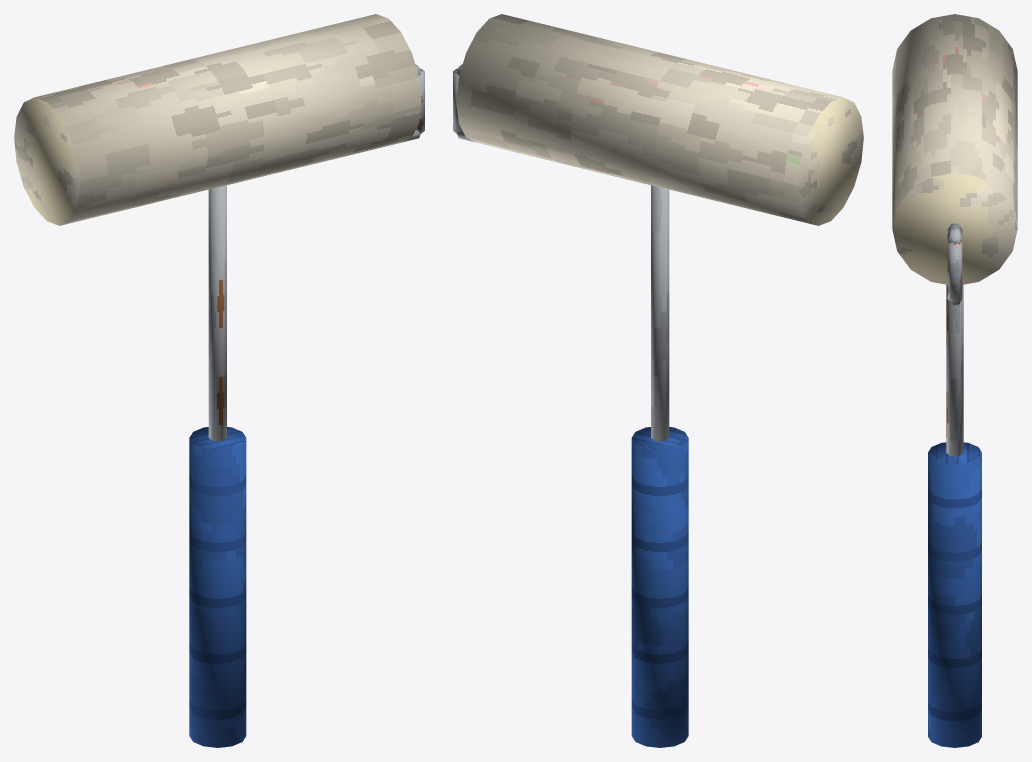
The model's file is roller.glb.
The picture shows the model from 3 angles, left to right: view 1: azimuth 30°, elevation 25°; view 2: azimuth 150°, elevation 25°; view 3: azimuth 270°, elevation 25°; orthographic projection. The views are drawn at different scales.
Visible parts, largest first — view 1: Cylinder; view 2: Cylinder; view 3: Cylinder.
Part boxes in pixels (left/top/right/bottom): Cylinder: left=14, top=14, right=424, bottom=747; Cylinder: left=453, top=14, right=863, bottom=747; Cylinder: left=892, top=14, right=1017, bottom=747.
Size of the model in its own units: 0.198 by 0.34 by 0.06.
Materials: 3 (3 with a texture image).
